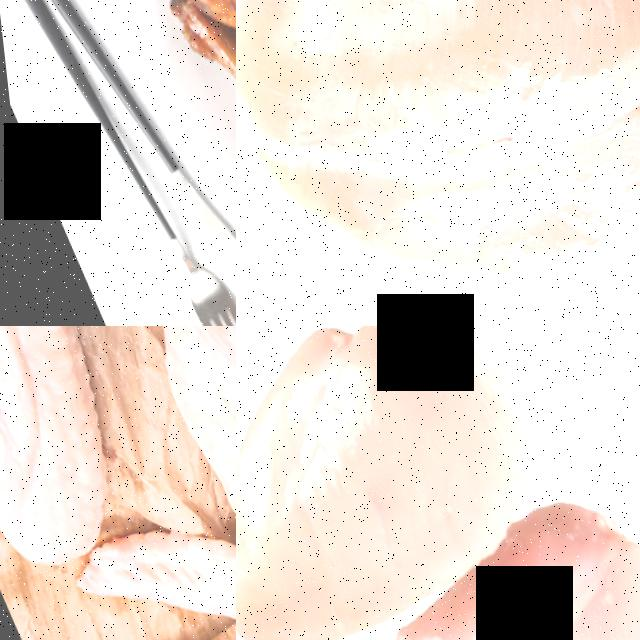chicken breast: (236, 0, 640, 326), (236, 326, 601, 640), (324, 505, 640, 640)
chicken thigh: (157, 0, 236, 152)
chicken wing: (0, 326, 236, 640), (0, 326, 236, 582)
